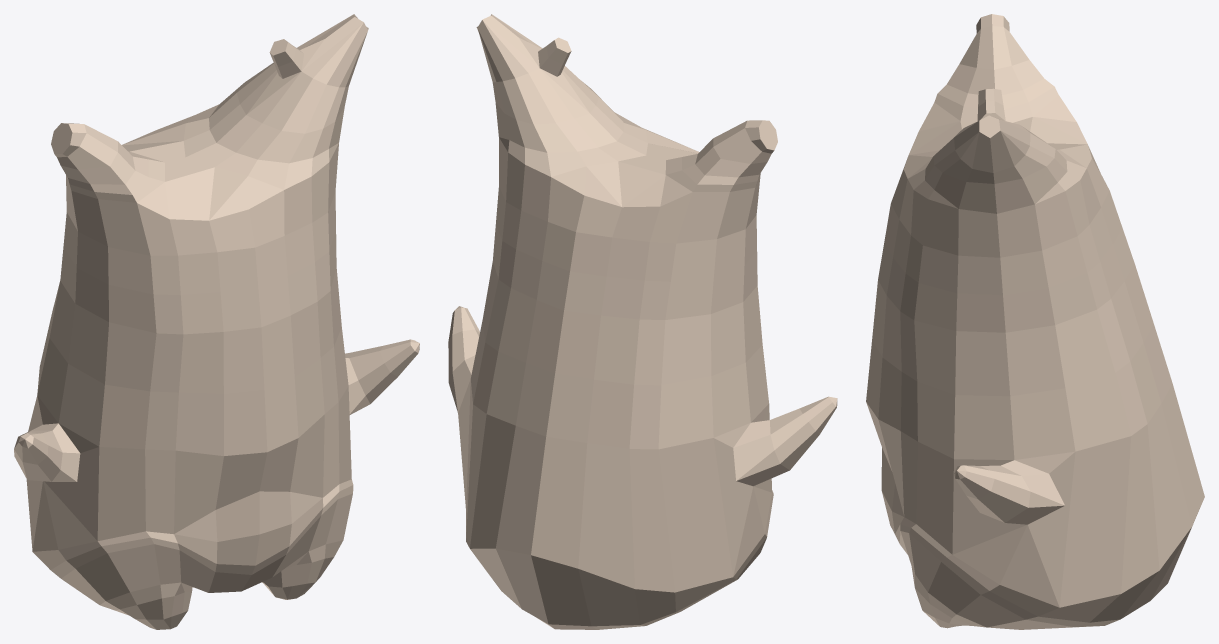
Rendered from frame_0113.obj.
The picture shows the model from 3 angles, left to right: view 1: azimuth 30°, elevation 25°; view 2: azimuth 150°, elevation 25°; view 3: azimuth 270°, elevation 25°; orthographic projection. The views are drawn at different scales.
Visible parts, largest first — view 1: korok; view 2: korok; view 3: korok.
Boxes of the visible parts, <box> form: korok: <box>14,14,419,629</box>; korok: <box>448,14,837,629</box>; korok: <box>866,14,1204,629</box>.
Size of the model in its own units: 1.46 by 1.94 by 1.06.
